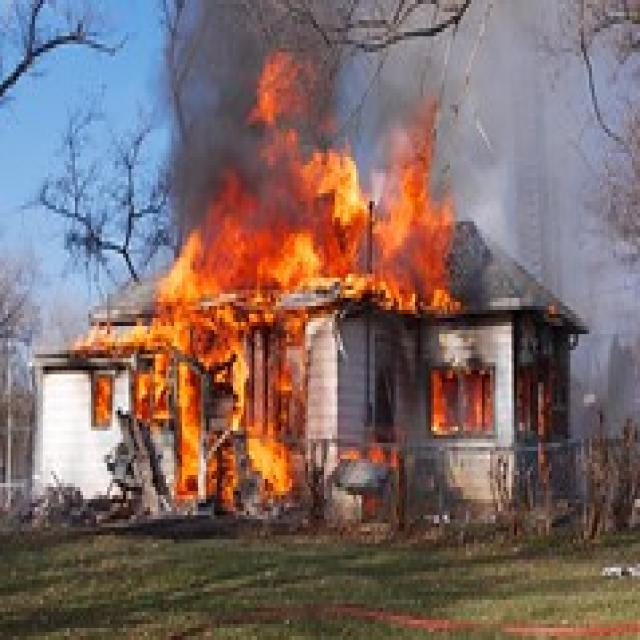fire: (168, 252, 316, 510), (323, 156, 365, 246)
